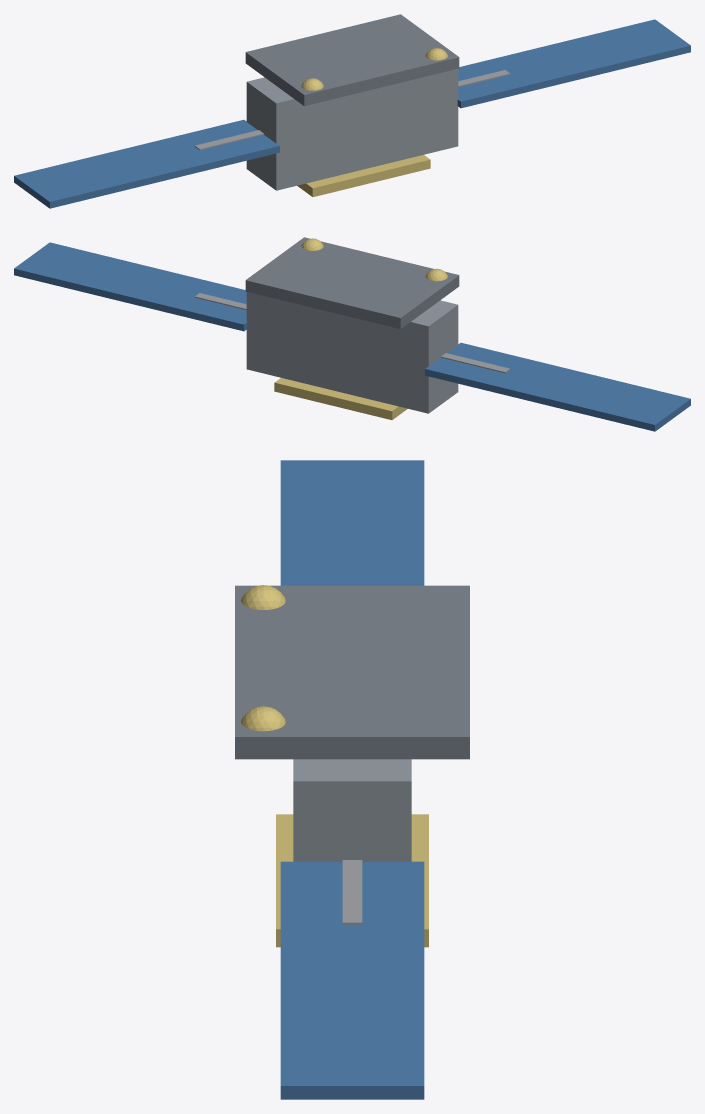
The model's file is kleo_satellite_flatpanel.glb.
3 renders of one model, top to bottom at view 1: azimuth 30°, elevation 25°; view 2: azimuth 150°, elevation 25°; view 3: azimuth 270°, elevation 25°, orthographic. The views are drawn at different scales.
Parts seen in each view (by area): view 1: bus, array_nadir, panel_left, panel_right, array_top, boom_left, boom_right; view 2: bus, array_nadir, panel_left, panel_right, array_top, boom_left, boom_right; view 3: array_nadir, panel_right, panel_left, bus, array_top, boom_right.
Boxes of the visible parts, bbox=[...] form: bus: bbox=[246, 69, 458, 190]; array_nadir: bbox=[245, 14, 459, 106]; panel_left: bbox=[14, 119, 279, 208]; panel_right: bbox=[457, 19, 690, 108]; array_top: bbox=[297, 155, 430, 196]; boom_left: bbox=[194, 130, 263, 150]; boom_right: bbox=[458, 70, 510, 86]; bus: bbox=[246, 292, 458, 413]; array_nadir: bbox=[245, 237, 459, 329]; panel_left: bbox=[425, 342, 690, 431]; panel_right: bbox=[14, 242, 247, 331]; array_top: bbox=[274, 378, 407, 419]; boom_left: bbox=[441, 353, 510, 373]; boom_right: bbox=[194, 293, 246, 309]; array_nadir: bbox=[235, 585, 469, 759]; panel_right: bbox=[280, 861, 424, 1099]; panel_left: bbox=[280, 460, 424, 585]; bus: bbox=[293, 759, 411, 861]; array_top: bbox=[276, 814, 428, 947]; boom_right: bbox=[342, 860, 362, 924].
Size of the model in its own units: 5.99 by 1.08 by 0.95.
